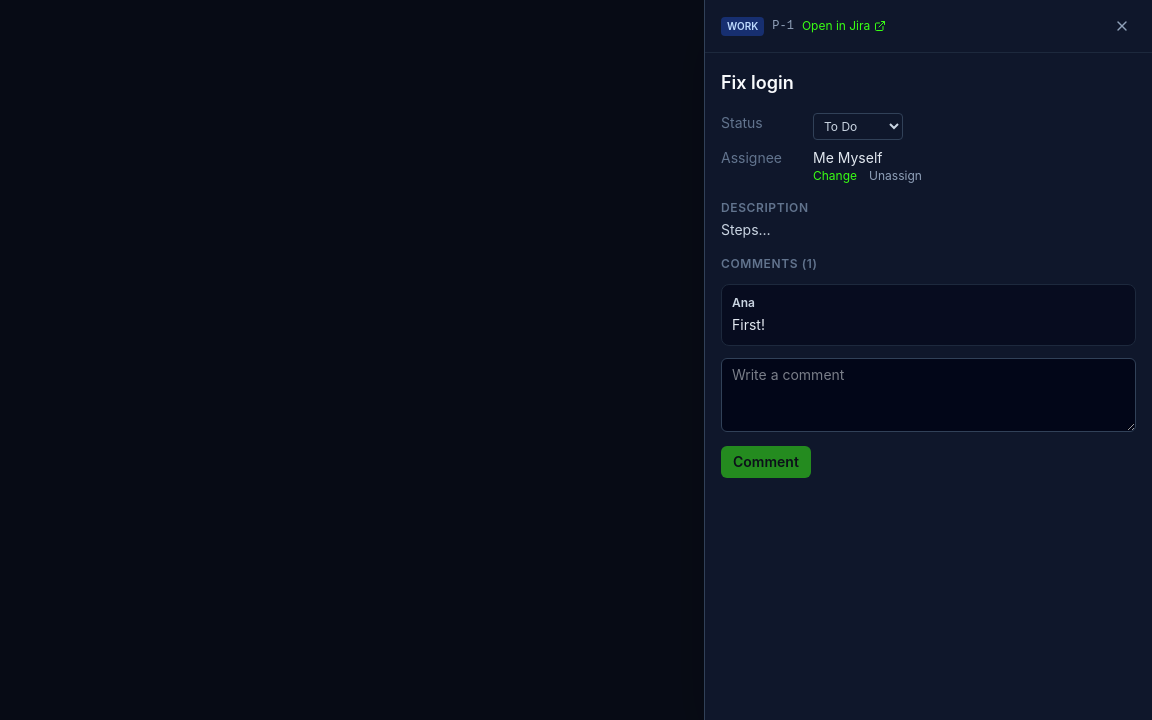
Test: TaskPanel for a tracker task › lists comments and adds one
This screenshot has width=1152, height=720.
Check: the text "First!" is shown, box 732,316 -> 765,333
Step 1. Type "On it" into the text box named "New comment" → (928, 395), box 721,358 -> 1136,432
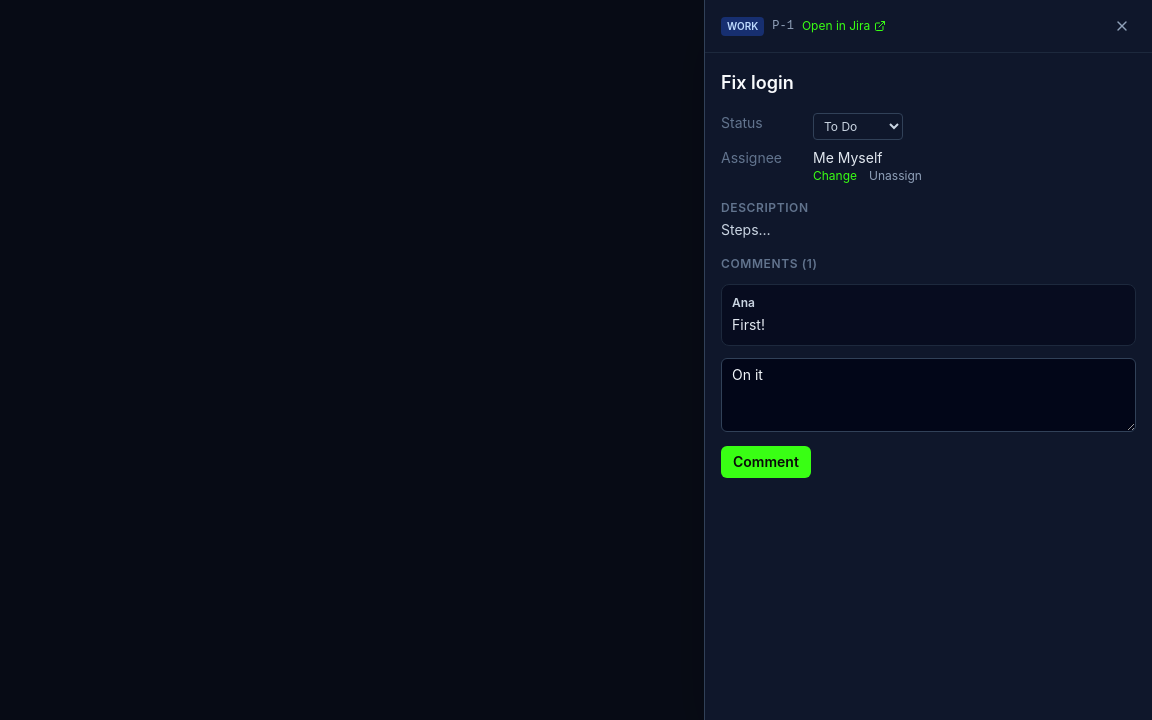
Step 2. Click the button "Comment" → (766, 462), box 721,446 -> 811,478
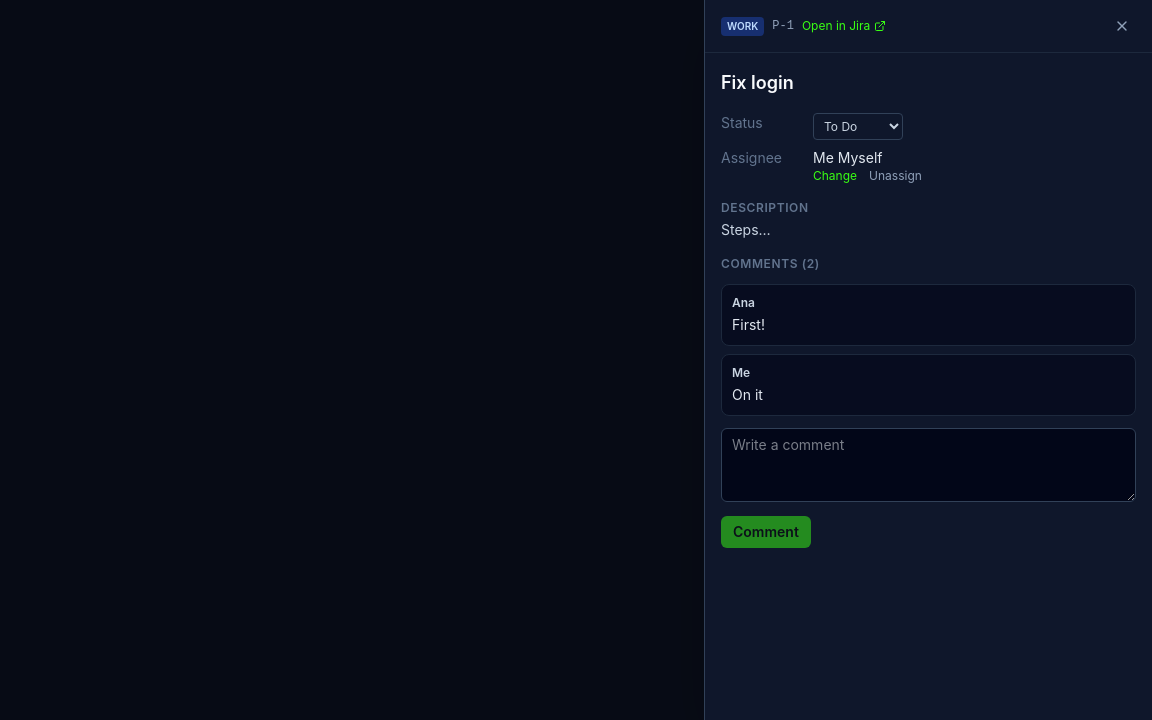
Check: the text "On it" is shown, box 732,386 -> 763,403
Check: the text box named "New comment" is empty, box 721,428 -> 1136,502
